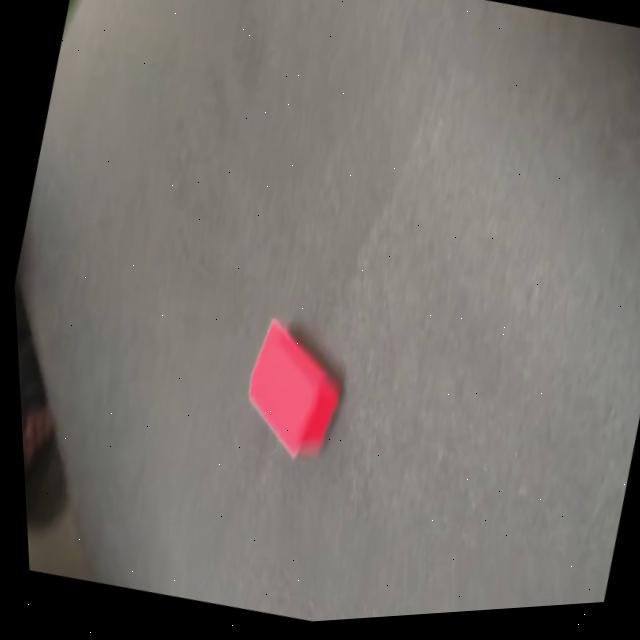red block: (228, 308, 360, 471)
